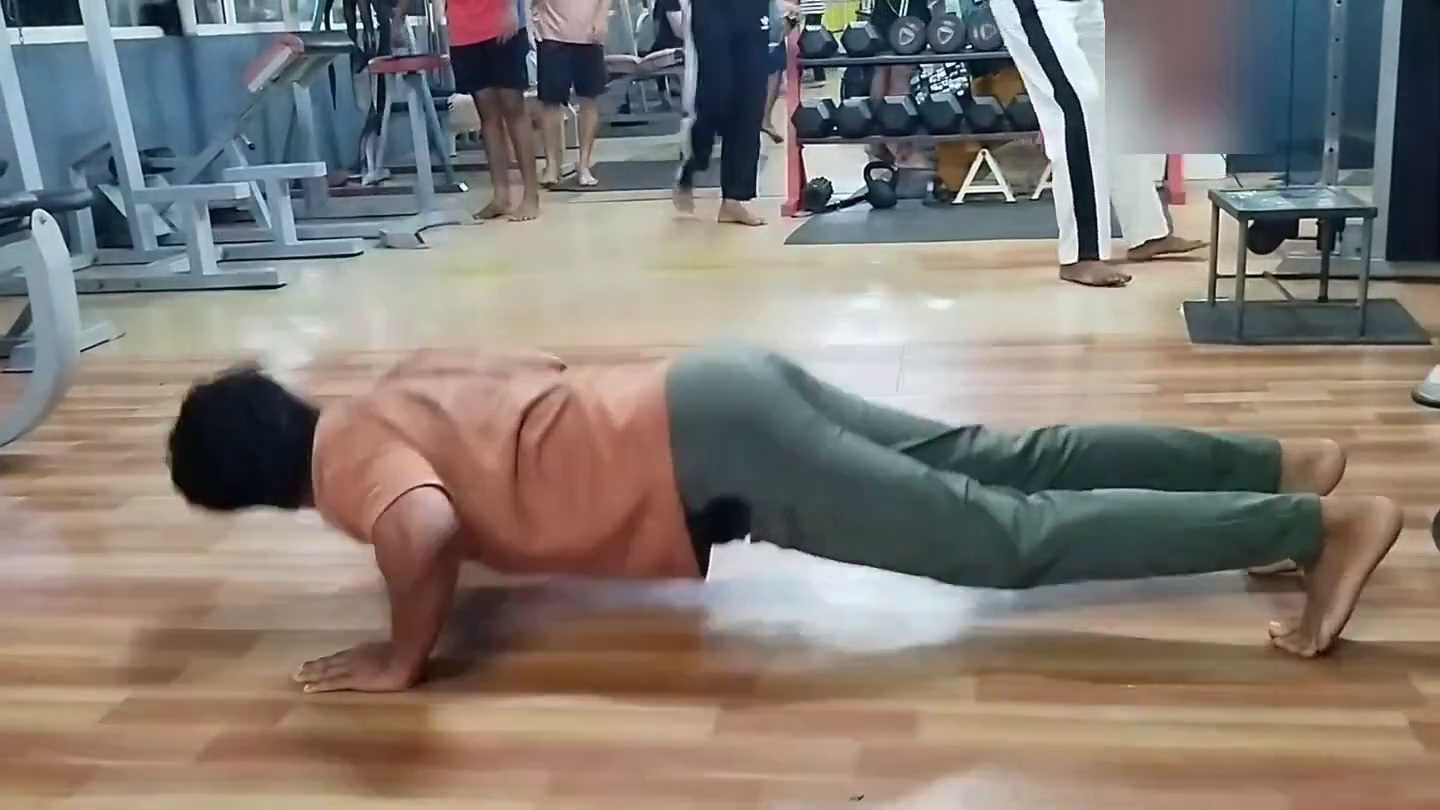push_up_incorrect: (126, 290, 1440, 774)
